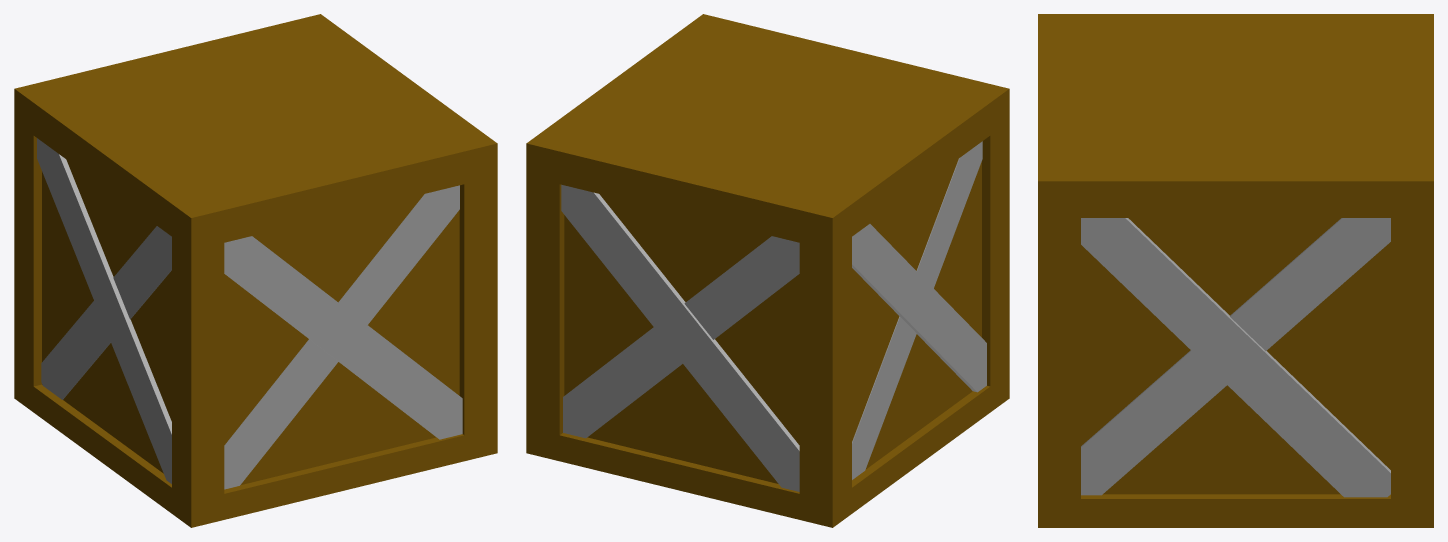
The model's file is Caja x Grande.fbx.
3 renders of one model, left to right at view 1: azimuth 30°, elevation 25°; view 2: azimuth 150°, elevation 25°; view 3: azimuth 270°, elevation 25°, orthographic. The views are drawn at different scales.
Parts seen in each view (by area): view 1: Caja_grande; view 2: Caja_grande; view 3: Caja_grande.
Part boxes in pixels (<box>): Caja_grande: <box>14,14,497,527</box>; Caja_grande: <box>526,14,1009,527</box>; Caja_grande: <box>1038,14,1433,527</box>.
Size of the model in its own units: 14.42 by 13.94 by 14.42.
